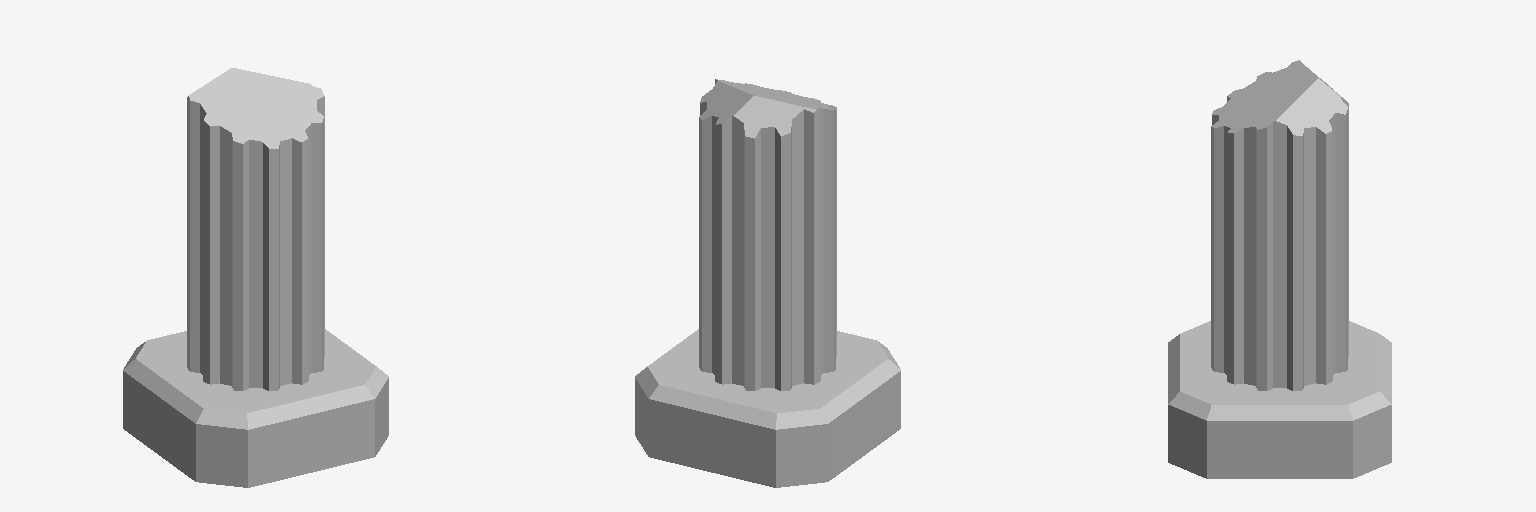
File: column.obj
3 renders of one model, left to right at view 1: azimuth 30°, elevation 25°; view 2: azimuth 150°, elevation 25°; view 3: azimuth 270°, elevation 25°, orthographic.
Visible parts, largest first — view 1: Gear, Cube.005_Cube; view 2: Gear, Cube.005_Cube; view 3: Gear, Cube.005_Cube.
Part boxes in pixels (x1,y1,x2,y2): Gear: (187, 68, 324, 390); Cube.005_Cube: (123, 329, 388, 487); Gear: (699, 79, 836, 390); Cube.005_Cube: (635, 329, 900, 487); Gear: (1211, 60, 1348, 390); Cube.005_Cube: (1168, 321, 1391, 478).
Size of the model in its own units: 1 by 1.73 by 1.